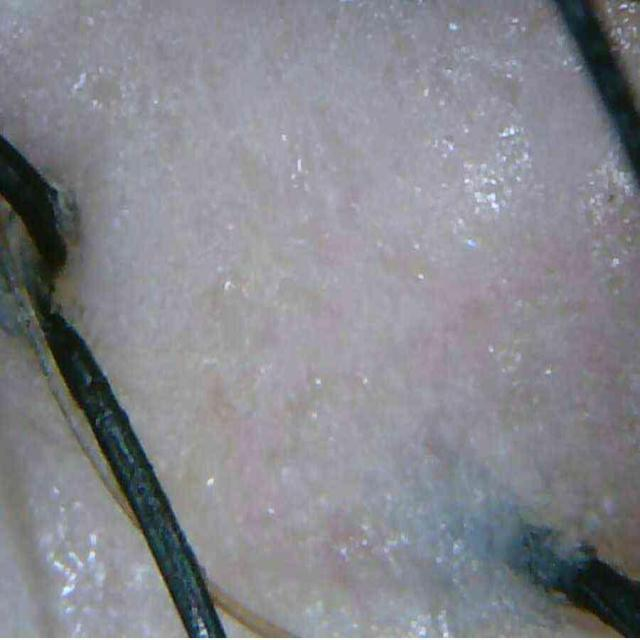o: (39, 476, 106, 620), (464, 126, 532, 214), (329, 519, 411, 578), (590, 151, 636, 209), (435, 521, 472, 572), (409, 608, 449, 638)
